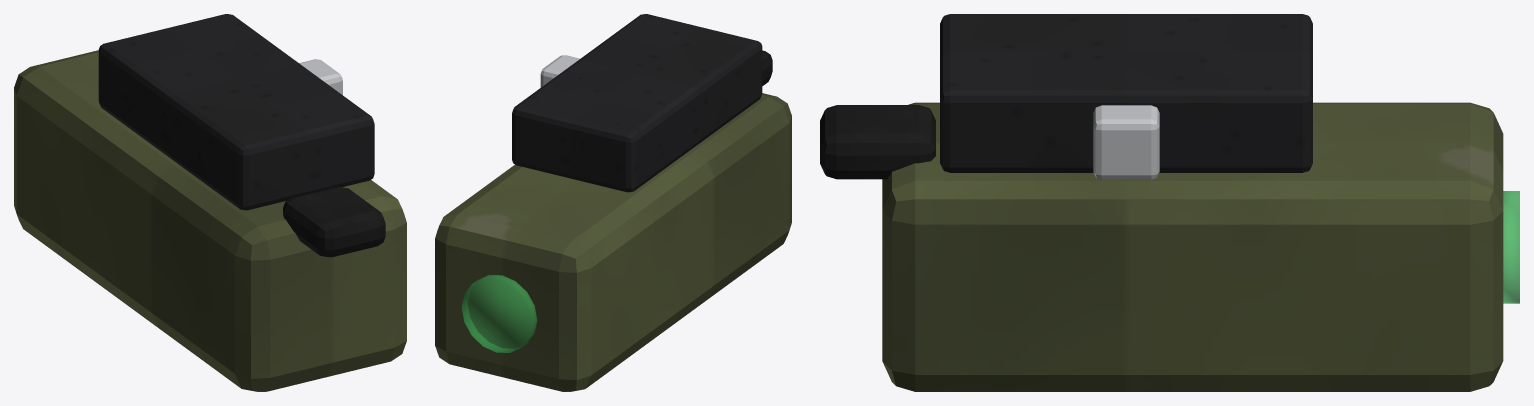
Rendered from laser_green.glb.
3 views of the same model, side by side, from view 1: azimuth 30°, elevation 25°; view 2: azimuth 150°, elevation 25°; view 3: azimuth 270°, elevation 25° (orthographic). The views are drawn at different scales.
Parts seen in each view (by area): view 1: housing, l_clamp, switch, l_screw; view 2: housing, l_clamp, lens, l_screw, switch; view 3: housing, l_clamp, switch, l_screw, lens.
Part boxes in pixels (bbox=[...]): housing: bbox=[14, 50, 406, 391]; l_clamp: bbox=[98, 14, 374, 210]; switch: bbox=[283, 187, 385, 257]; l_screw: bbox=[299, 59, 342, 94]; housing: bbox=[435, 93, 791, 391]; l_clamp: bbox=[512, 14, 762, 192]; lens: bbox=[461, 275, 537, 352]; l_screw: bbox=[540, 55, 579, 87]; switch: bbox=[762, 50, 772, 85]; housing: bbox=[882, 102, 1503, 391]; l_clamp: bbox=[940, 14, 1312, 172]; switch: bbox=[820, 105, 935, 179]; l_screw: bbox=[1093, 105, 1159, 179]; lens: bbox=[1503, 191, 1519, 303].
Bounding box in the file's own units: 0.032 × 0.04 × 0.0845.
Materials: 5 (3 with a texture image).
